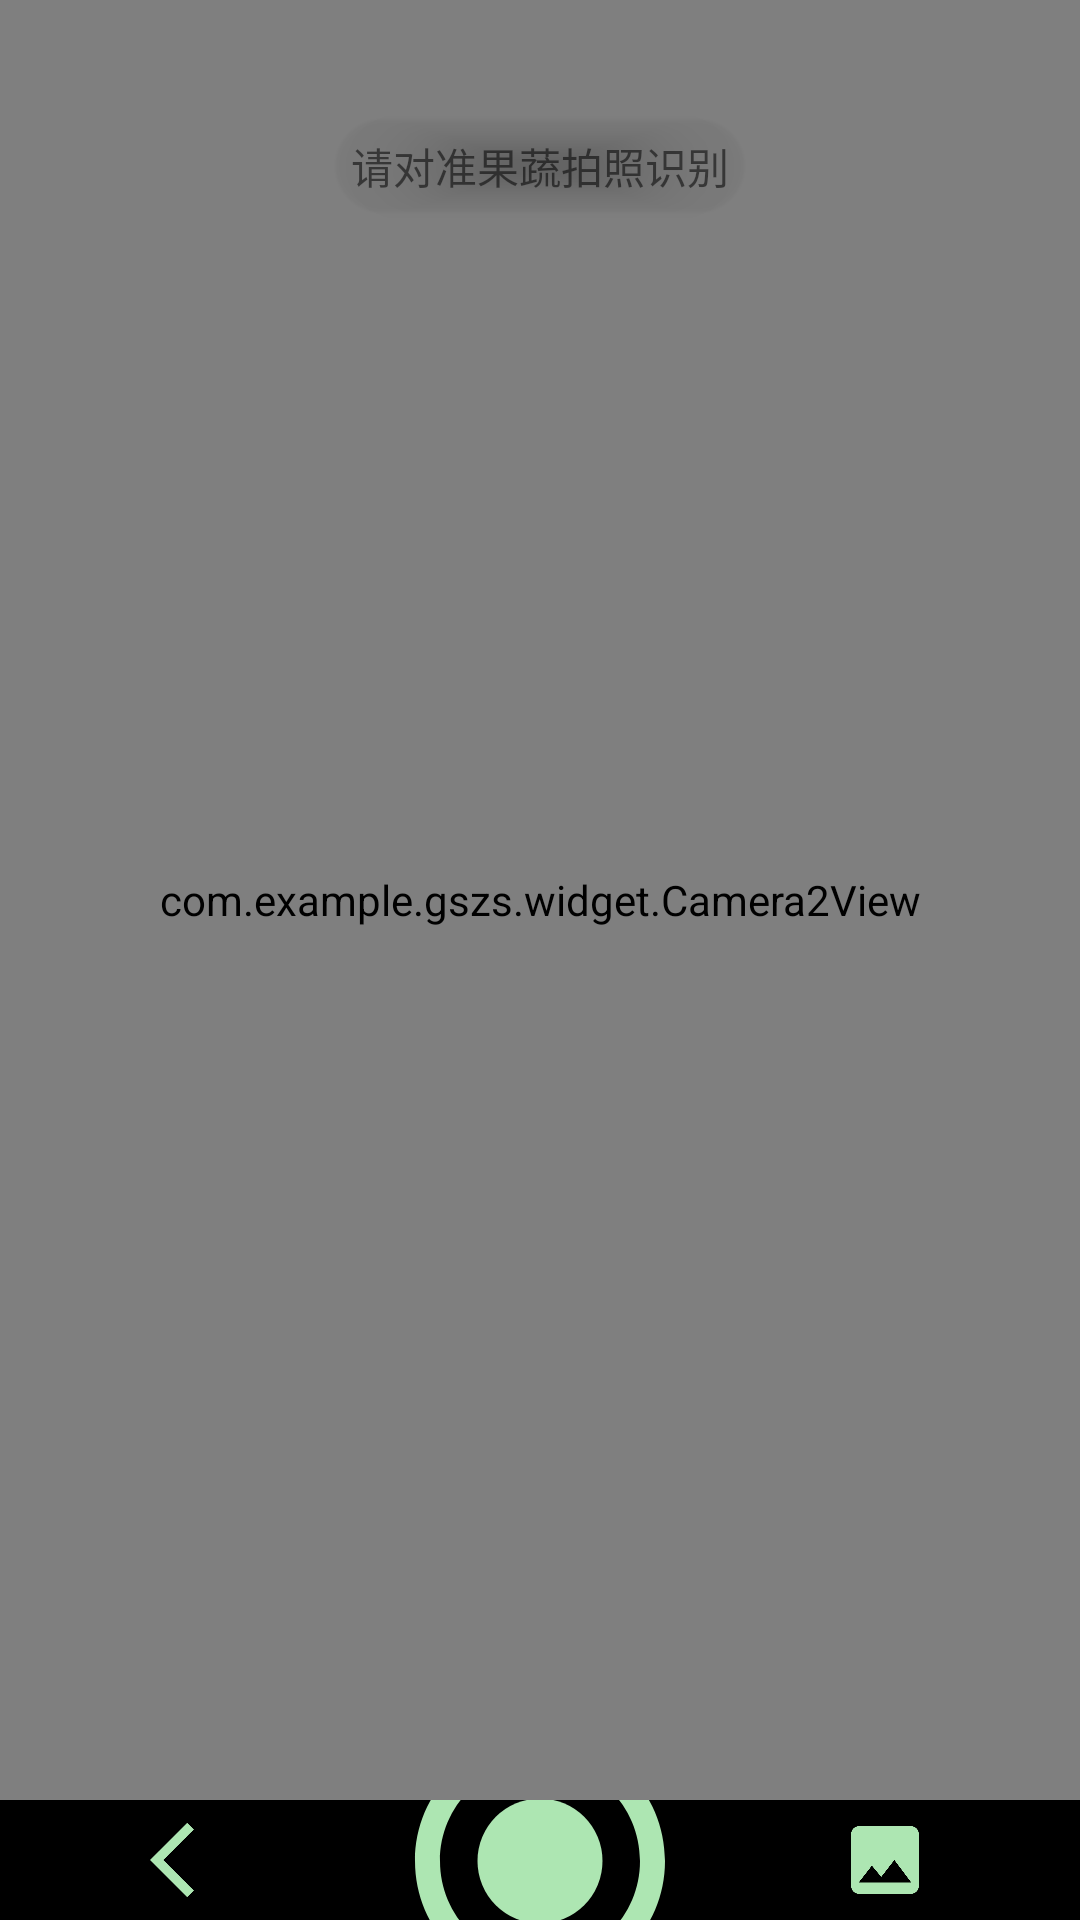

Icons on this 1080×1920 Android screen, each with the point to tap as point (x, y):
back: point (172, 1860)
photo: point (885, 1860)
